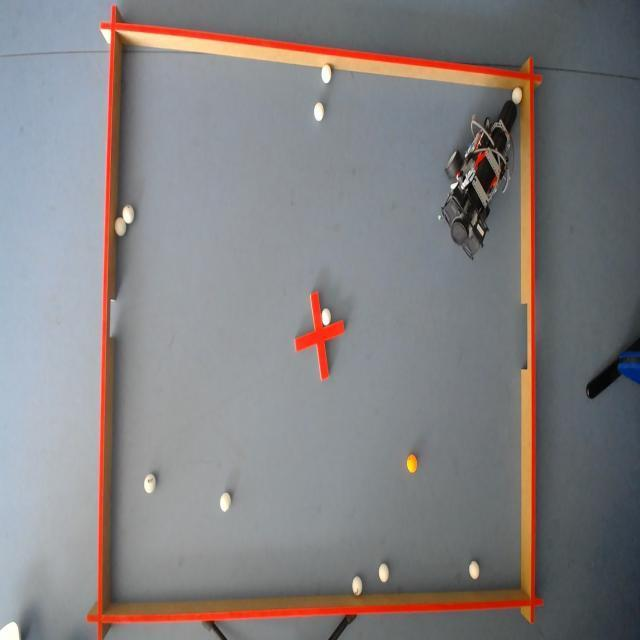orange: (406, 452, 419, 472)
robot: (442, 82, 512, 254)
white: (120, 203, 134, 223), (312, 101, 323, 122), (220, 492, 231, 513), (351, 575, 362, 596), (142, 474, 154, 493), (377, 562, 387, 584), (115, 216, 126, 236), (322, 305, 332, 326), (318, 64, 329, 82), (511, 86, 522, 102), (470, 562, 479, 580)
